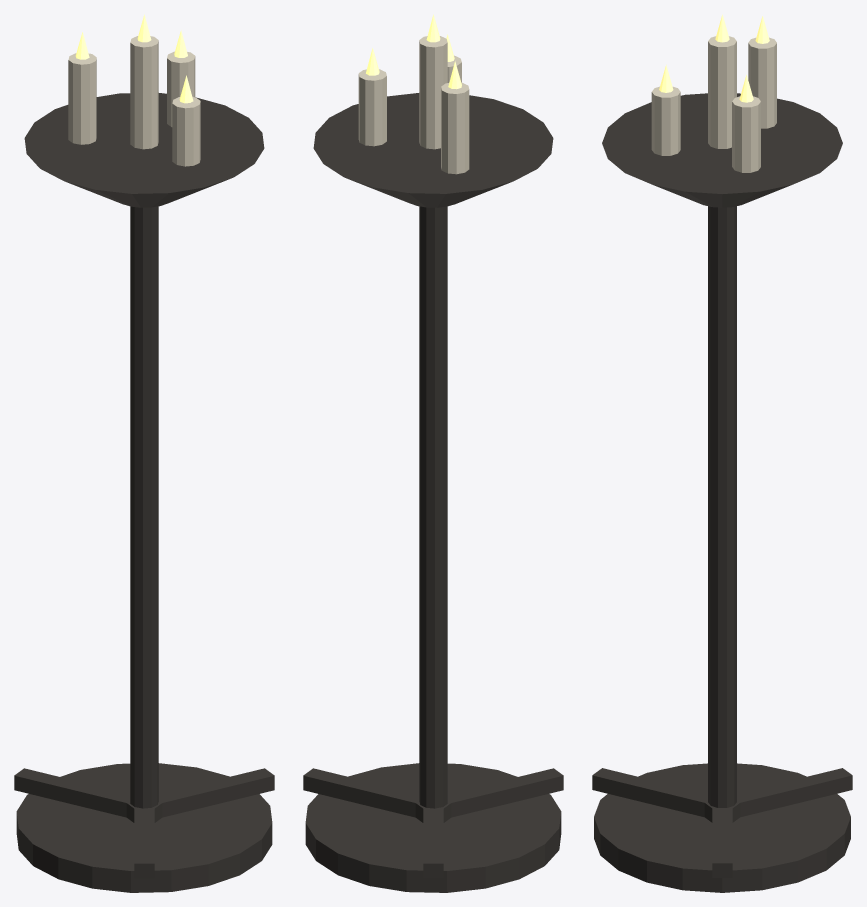
File: candelabrum.glb
The picture shows the model from 3 angles, left to right: view 1: azimuth 30°, elevation 25°; view 2: azimuth 150°, elevation 25°; view 3: azimuth 270°, elevation 25°; orthographic projection.
Visible parts, largest first — view 1: Cylinder, Cylinder.001, Cone, Cylinder.002, Cube, Cube.001, Cylinder.004, Cylinder.005, Cube.002, Cylinder.003; view 2: Cylinder, Cylinder.001, Cone, Cube, Cube.002, Cylinder.002, Cylinder.004, Cylinder.003, Cube.001; view 3: Cylinder, Cylinder.001, Cone, Cube.002, Cube.001, Cylinder.002, Cylinder.003, Cylinder.004, Cylinder.005, Cube.
Part boxes in pixels (box(x1,y1,x2,y2)): Cylinder: box(16, 763, 272, 892); Cylinder.001: box(130, 206, 158, 808); Cone: box(24, 93, 264, 207); Cylinder.002: box(130, 36, 158, 149); Cube: box(126, 768, 274, 822); Cube.001: box(14, 768, 162, 822); Cylinder.004: box(68, 53, 96, 144); Cylinder.005: box(172, 97, 200, 166); Cube.002: box(134, 806, 154, 878); Cylinder.003: box(167, 51, 195, 126); Cylinder: box(305, 763, 561, 892); Cylinder.001: box(419, 206, 447, 808); Cone: box(313, 93, 553, 207); Cube: box(303, 768, 451, 822); Cube.002: box(415, 768, 563, 822); Cylinder.002: box(419, 36, 447, 149); Cylinder.004: box(441, 82, 469, 174); Cylinder.003: box(358, 69, 386, 146); Cube.001: box(423, 806, 443, 878); Cylinder: box(594, 763, 850, 892); Cylinder.001: box(708, 206, 736, 807); Cone: box(602, 93, 842, 207); Cube.002: box(592, 768, 740, 822); Cube.001: box(704, 768, 852, 822); Cylinder.002: box(708, 36, 736, 148); Cylinder.003: box(732, 96, 760, 172); Cylinder.004: box(748, 37, 776, 128); Cylinder.005: box(651, 86, 680, 155); Cube: box(712, 806, 732, 877).
Size of the model in its own units: 0.34 by 1.13 by 0.3243.
